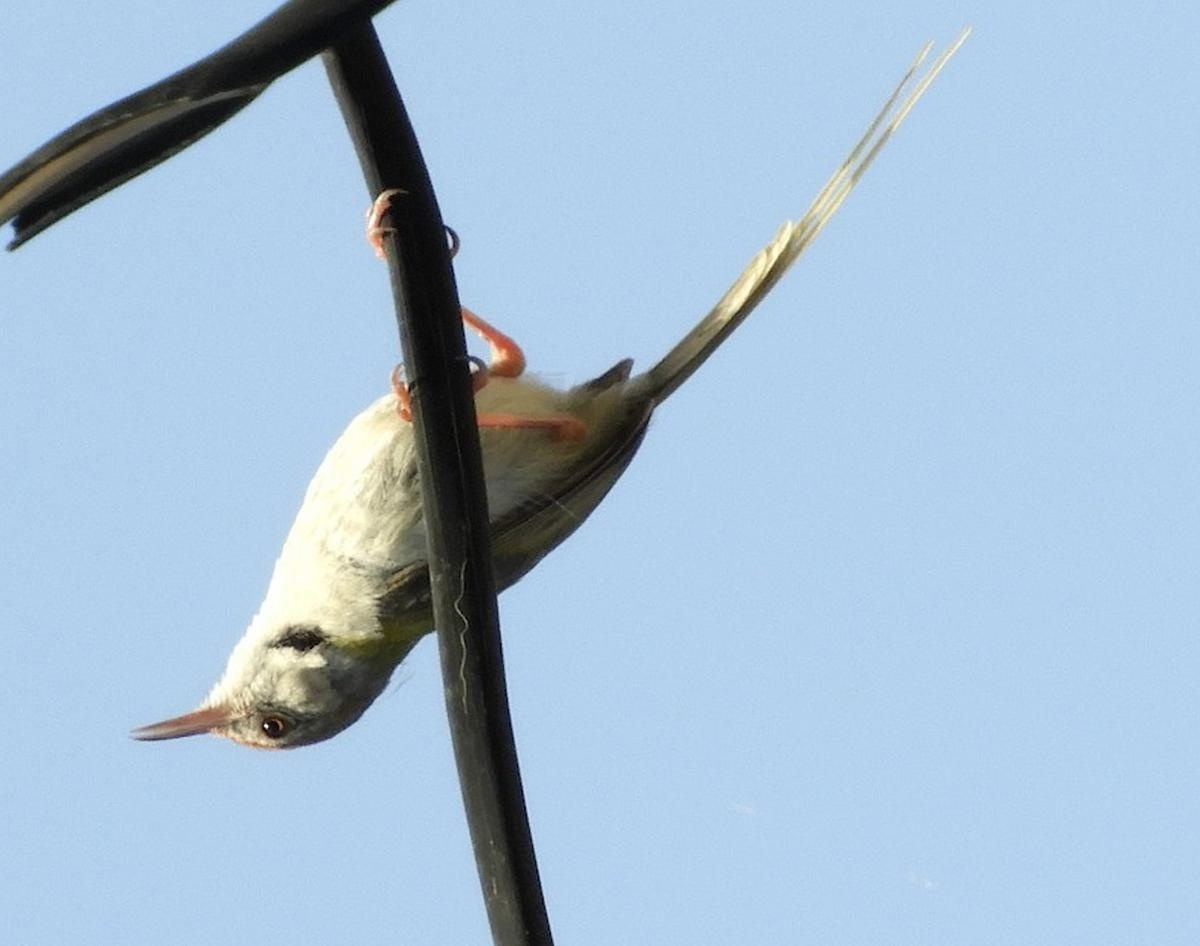tailorbird: (124, 89, 958, 782)
